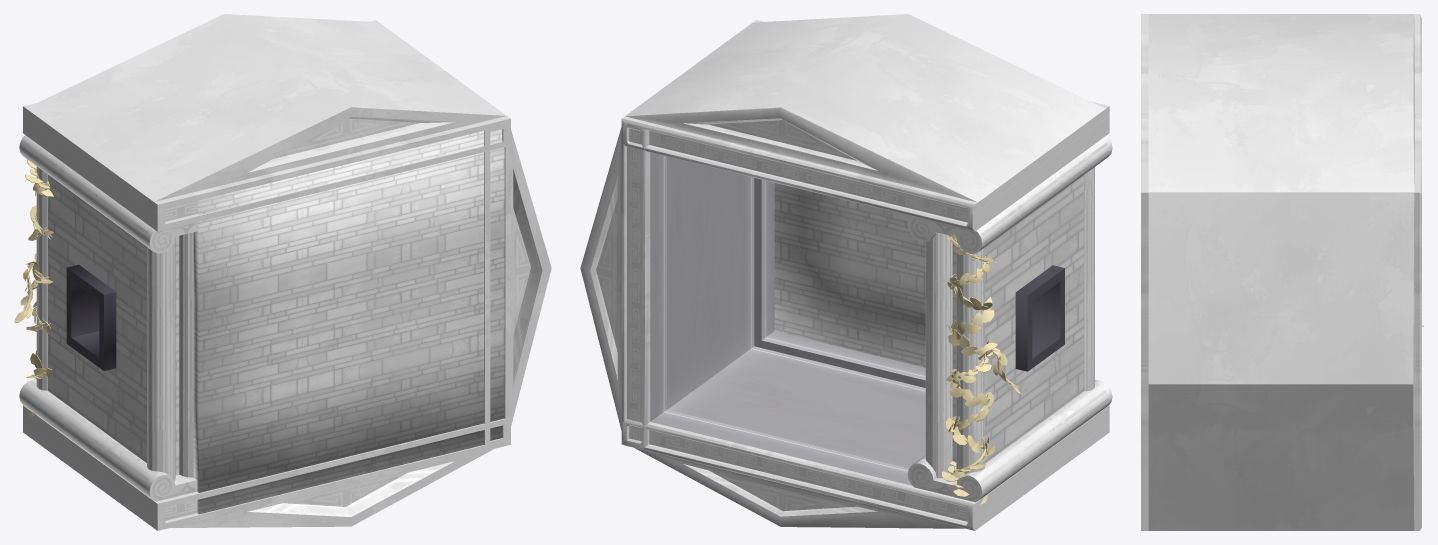
Rendered from UpperLeftCornerRoom.fbx.
The picture shows the model from 3 angles, left to right: view 1: azimuth 30°, elevation 25°; view 2: azimuth 150°, elevation 25°; view 3: azimuth 270°, elevation 25°; orthographic projection. The views are drawn at different scales.
Visible parts, largest first — view 1: Plane.012; view 2: Plane.012; view 3: Plane.012.
Part boxes in pixels (box(x1,y1,x2,y2)): Plane.012: box(14, 14, 551, 530); Plane.012: box(580, 14, 1112, 530); Plane.012: box(1141, 14, 1423, 530).
Size of the model in its own units: 5745 by 5421 by 3196.
2 materials, 2 textured.
